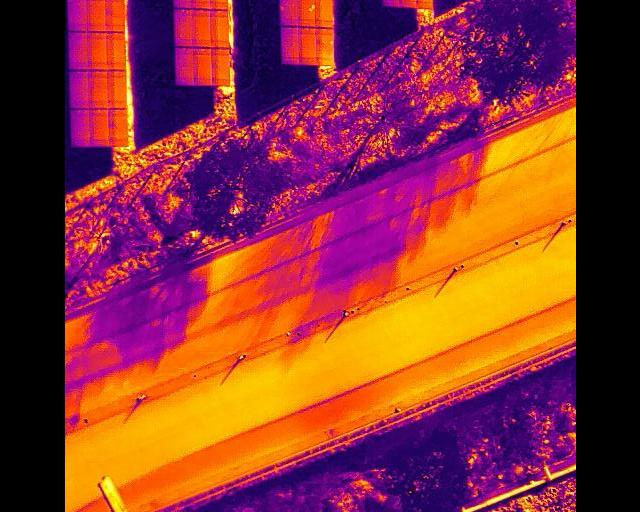Cell: (315, 27, 333, 66), (279, 0, 295, 27), (191, 0, 209, 8)
Cell-Multi: (295, 0, 314, 27)
No-Anomaly: (86, 32, 106, 70), (174, 47, 193, 86), (208, 10, 227, 48), (106, 71, 125, 109), (87, 71, 106, 109), (70, 109, 89, 146), (297, 27, 315, 66), (174, 8, 192, 47), (192, 48, 210, 86), (107, 108, 125, 146), (69, 71, 87, 109), (68, 32, 86, 70), (210, 49, 228, 86), (90, 109, 108, 146), (106, 31, 123, 70), (280, 27, 297, 65), (193, 8, 209, 48), (103, 0, 122, 32), (67, 0, 86, 32), (86, 0, 103, 32), (315, 0, 332, 29), (209, 0, 226, 9), (173, 0, 191, 8), (415, 0, 432, 8), (381, 0, 398, 8), (398, 0, 414, 8)
